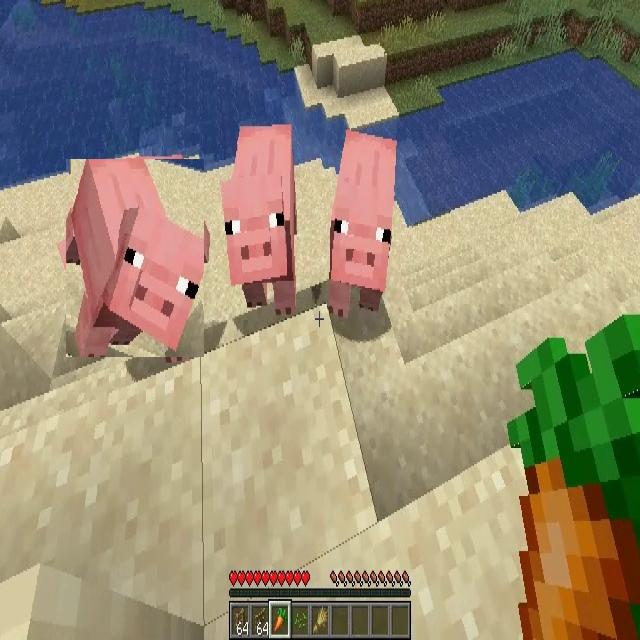pig: (66, 159, 204, 357), (221, 126, 297, 315), (329, 134, 393, 321)
